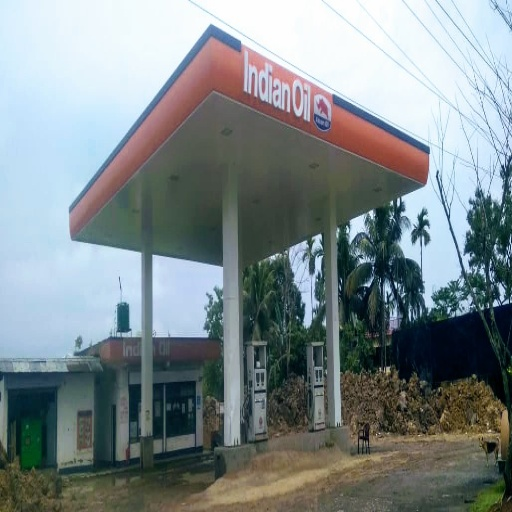roof: (69, 23, 428, 269)
